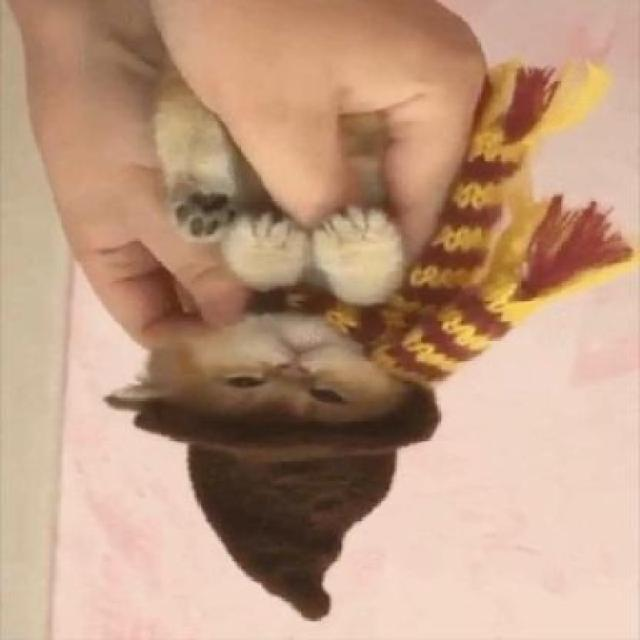cat: (92, 80, 480, 449)
